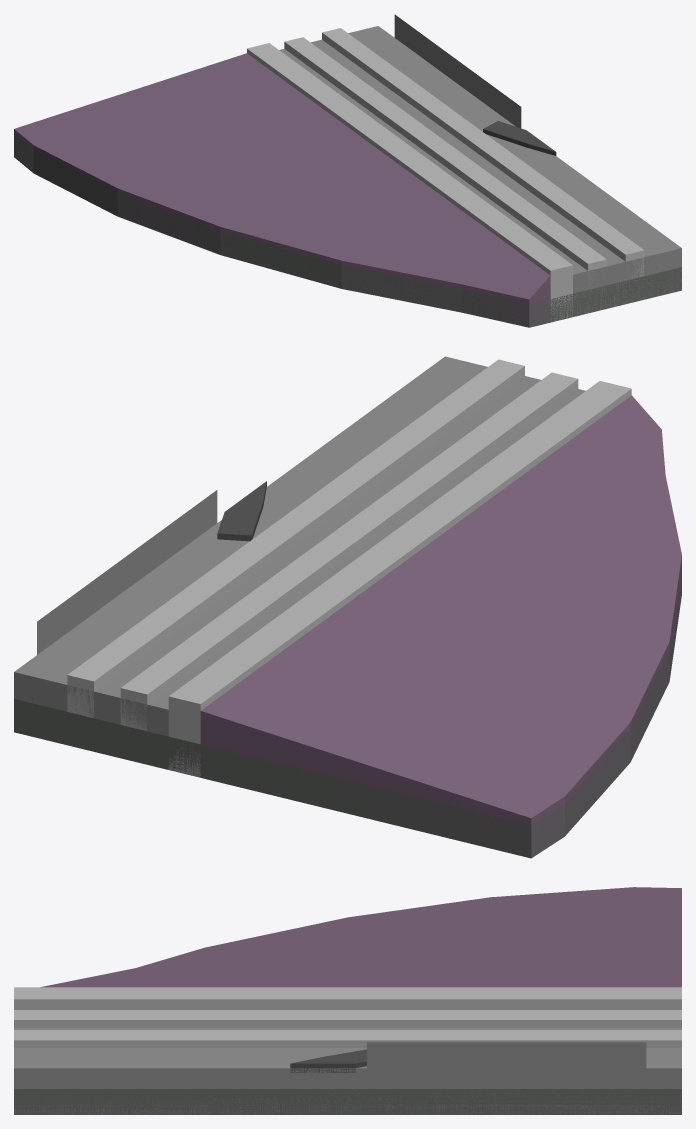
Rendered from newshb-115.glb.
3 renders of one model, top to bottom at view 1: azimuth 30°, elevation 25°; view 2: azimuth 150°, elevation 25°; view 3: azimuth 270°, elevation 25°, orthographic. The views are drawn at different scales.
Parts seen in each view (by area): view 1: newshb-115; view 2: newshb-115; view 3: newshb-115.
Part boxes in pixels (left/top/right/bottom): newshb-115: left=14, top=14, right=681, bottom=327; newshb-115: left=14, top=356, right=681, bottom=858; newshb-115: left=14, top=887, right=681, bottom=1114.
Bounding box in the file's own units: 1.62 × 0.28 × 2.33.
